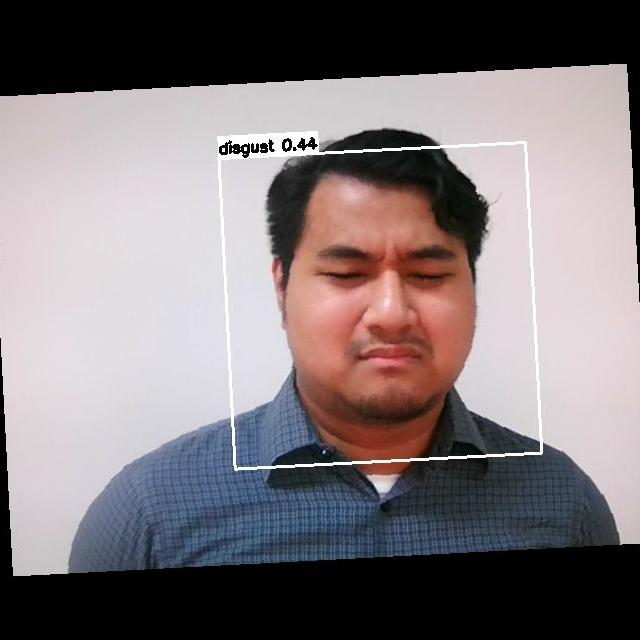Disgust: (286, 212, 487, 389)
